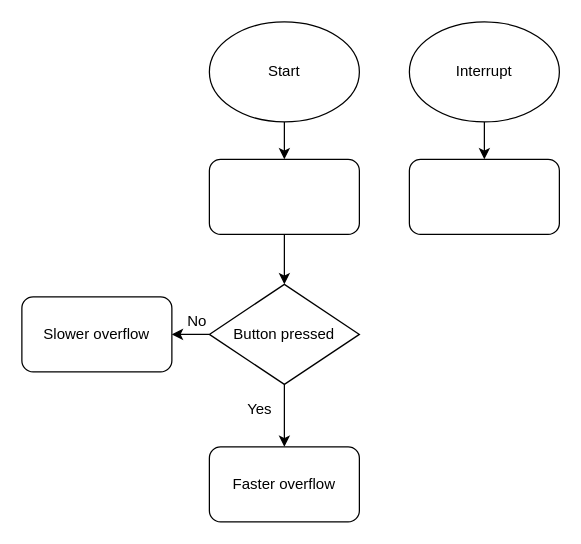
Some shapes in this 581 by 544 pixel diagram are drawn without their labels. Each missing label, with the box of its shape:
Initialize: Timer, GPIO, Button, LED Enable Interrupt: (208, 158, 359, 234)
Toggle LED: (408, 158, 559, 234)
